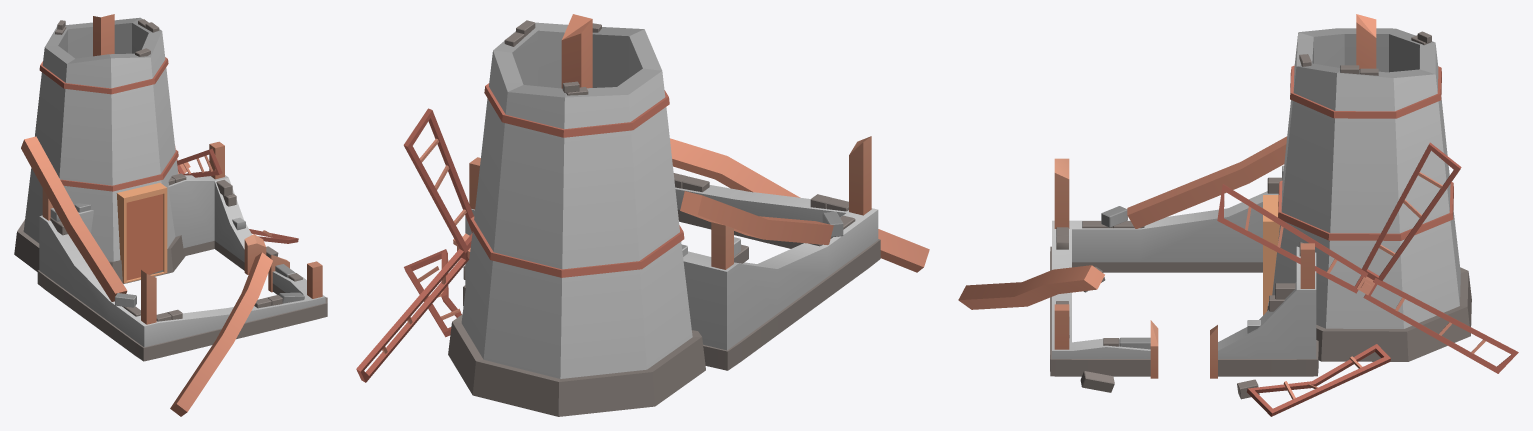
The model's file is [OBJ]Ruina_Moinho.fbx.
3 renders of one model, left to right at view 1: azimuth 30°, elevation 25°; view 2: azimuth 150°, elevation 25°; view 3: azimuth 270°, elevation 25°, orthographic. The views are drawn at different scales.
Visible parts, largest first — view 1: [OBJ]Ruina_Moinho; view 2: [OBJ]Ruina_Moinho; view 3: [OBJ]Ruina_Moinho.
Part boxes in pixels (bbox=[...]): [OBJ]Ruina_Moinho: bbox=[14, 14, 327, 416]; [OBJ]Ruina_Moinho: bbox=[356, 14, 929, 416]; [OBJ]Ruina_Moinho: bbox=[958, 14, 1518, 416].
Bounding box in the file's own units: 270 × 284 × 424.
